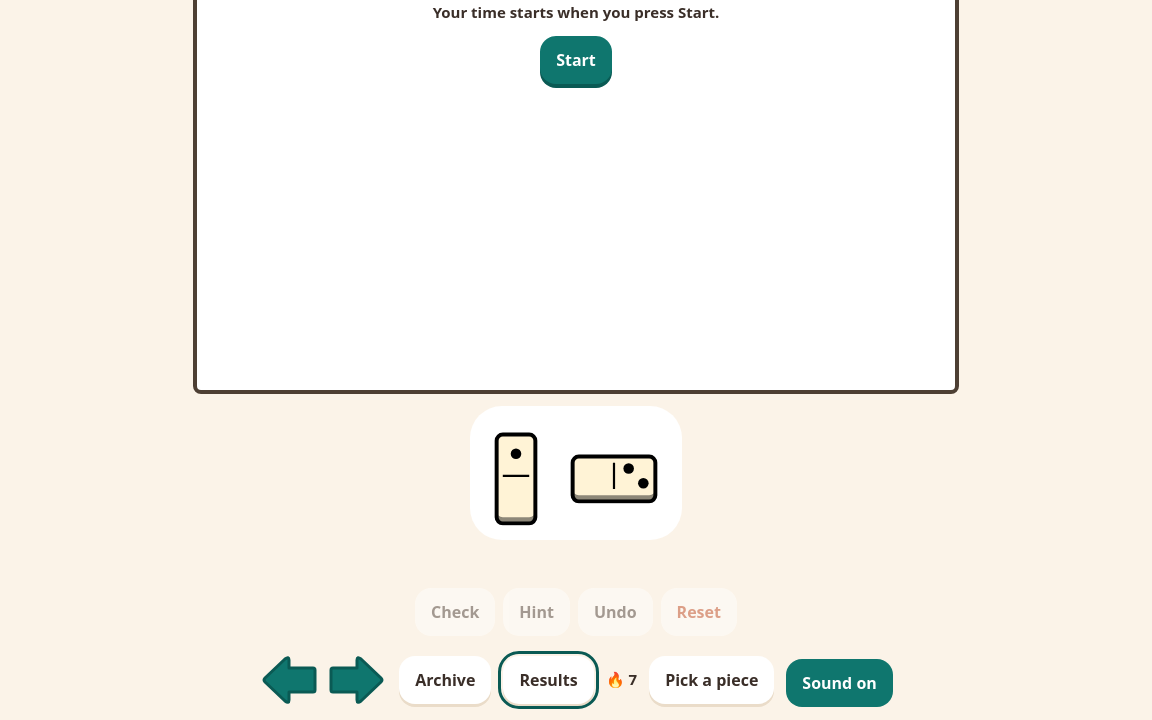
the results screen (rule 6) › shows the streak, saved freezes and the milestone reached today
(page scrolled)
Expected: the button "Archive" is shown, [399,656,491,704]
Click the button "Results" at (549, 680), box [503,656,594,704]
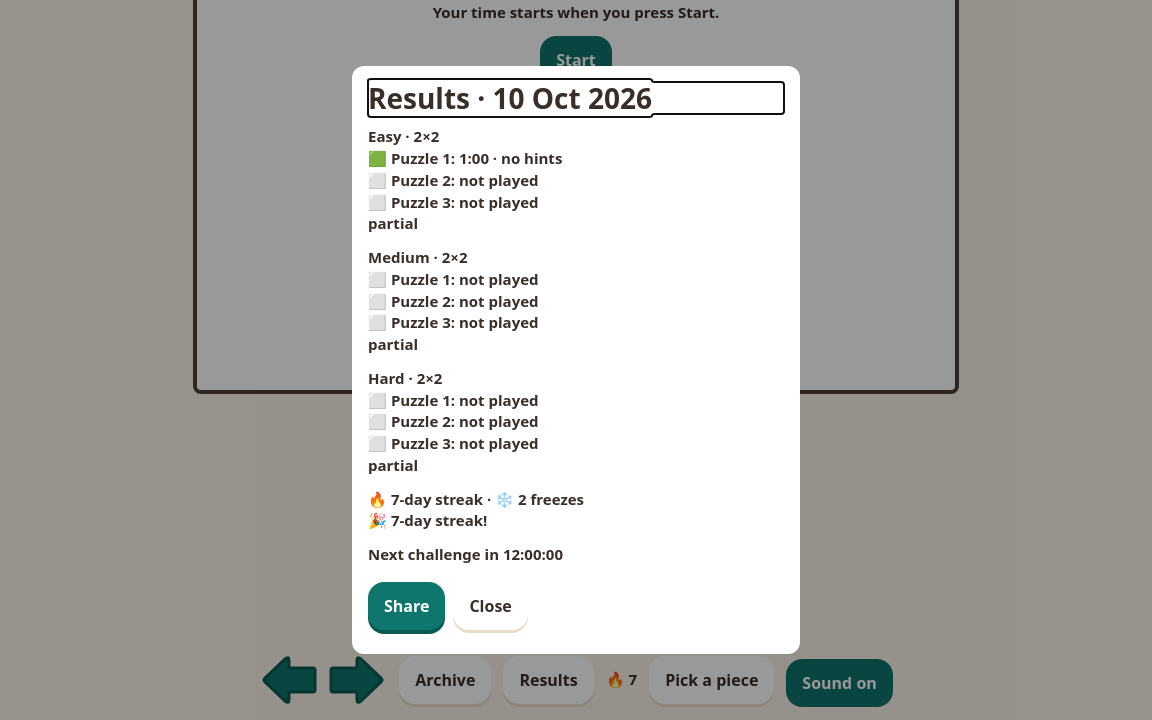
Expected: the dialog is shown
Expected: the element showing "🔥 7-day streak · ❄️ 2 freezes" is shown, [368,489,584,509]
Expected: the element showing "🎉 7-day streak!" is shown, [368,510,487,530]
